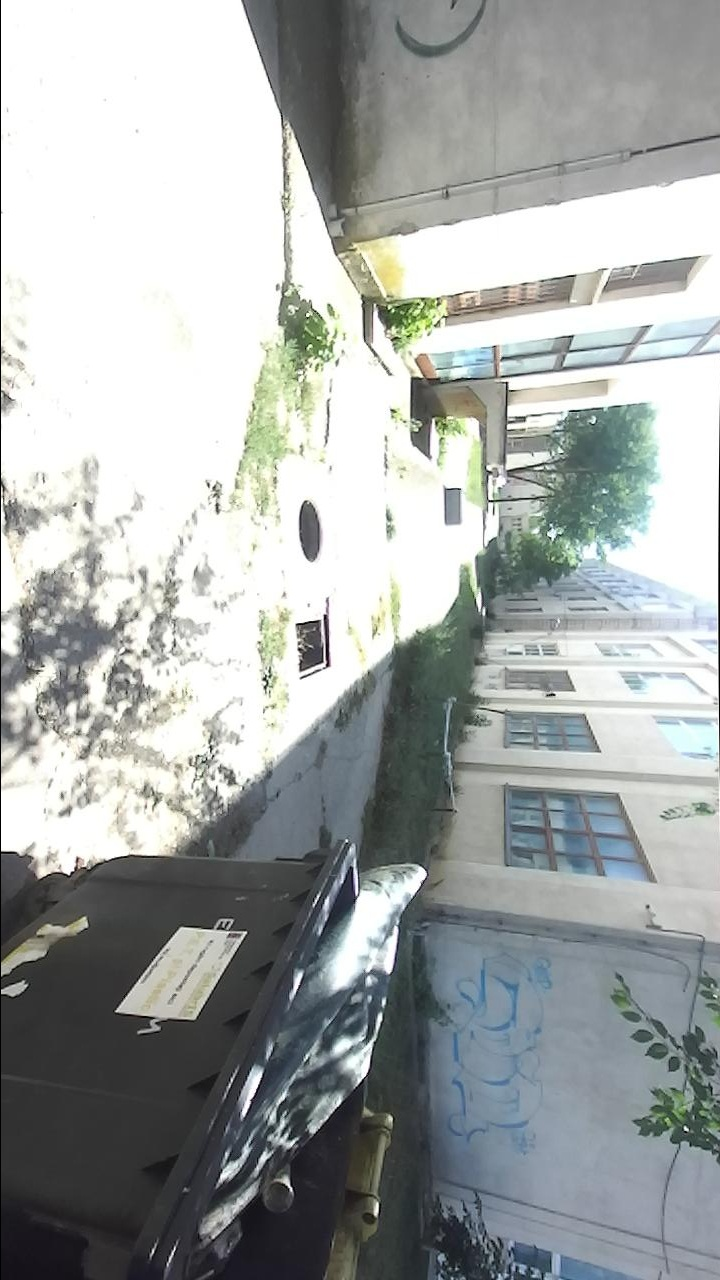drain: (292, 615, 331, 683), (296, 495, 325, 571)
